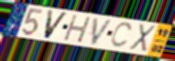5: (20, 7, 46, 37)
C: (108, 22, 134, 50)
H: (62, 14, 93, 45)
V: (43, 9, 70, 40), (89, 17, 114, 47)
X: (127, 22, 157, 54)
